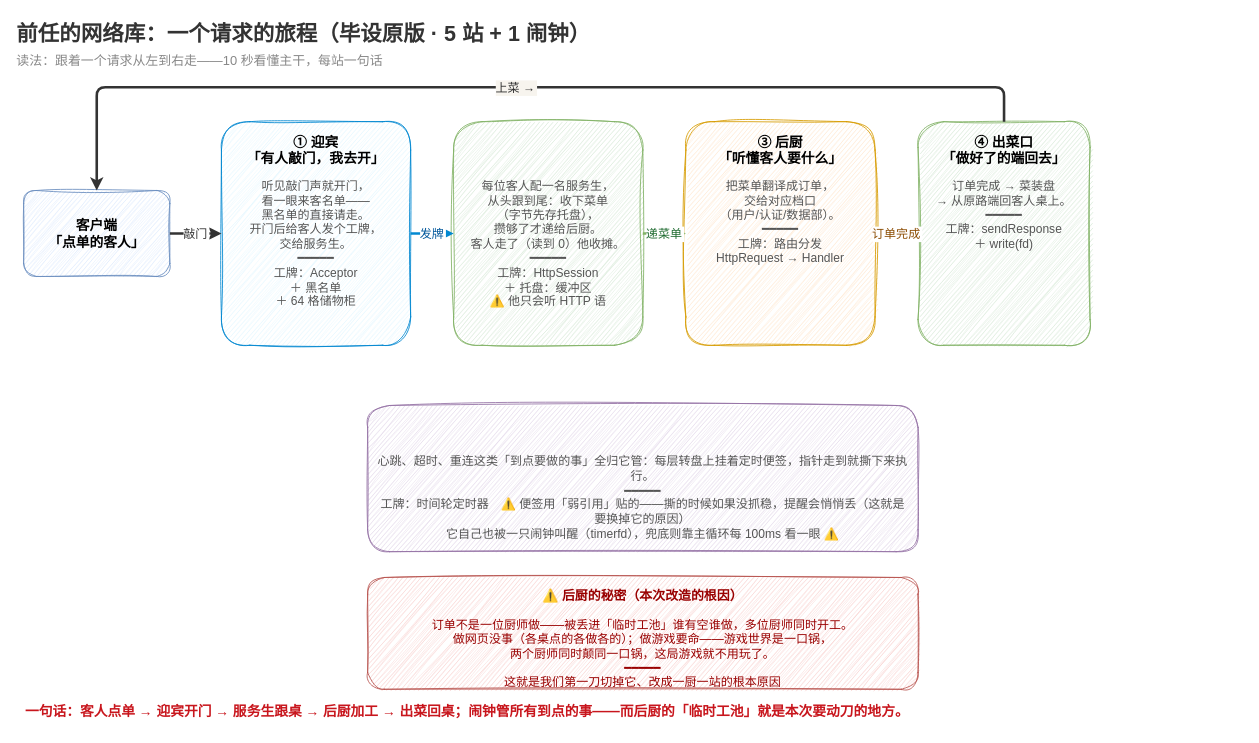
Image size: 1259x743. Some labels were removed from this diagram. Here are the shapes that lost their labels. From the top down, the box of each, then its label:
(453, 121, 643, 345): ② 服务生 「这桌归我管」
(367, 405, 918, 552): ⏰ 闹钟岗位 「到点的事我提醒」
